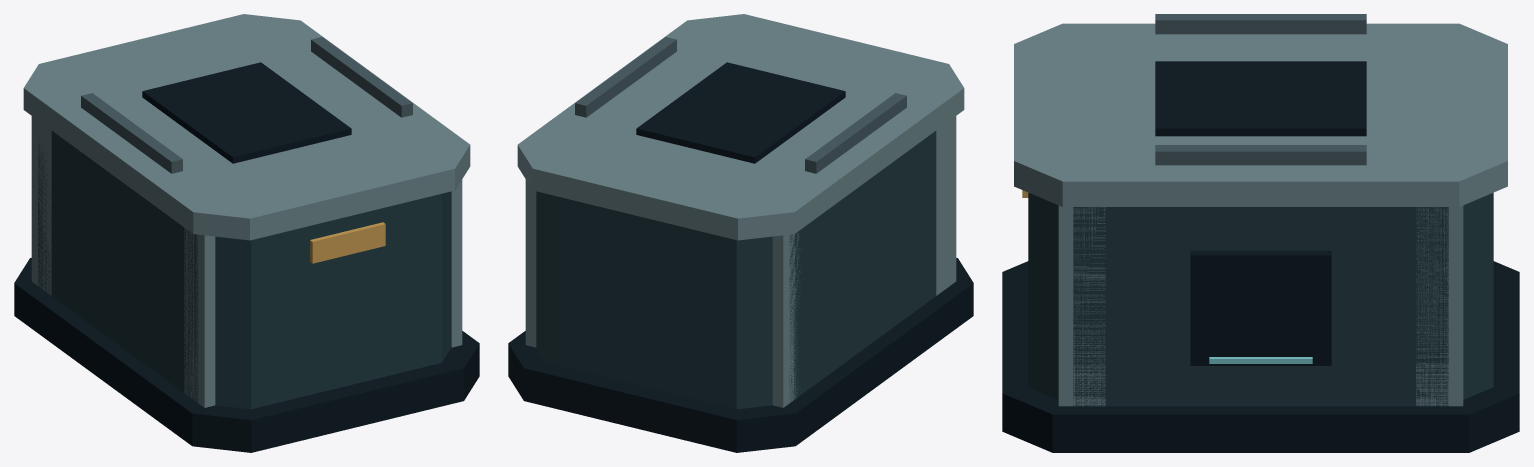
The model's file is cassette_d0_lod2.glb.
The picture shows the model from 3 angles, left to right: view 1: azimuth 30°, elevation 25°; view 2: azimuth 150°, elevation 25°; view 3: azimuth 270°, elevation 25°; orthographic projection. The views are drawn at different scales.
Visible parts, largest first — view 1: DISTANCE_STATIC; view 2: DISTANCE_STATIC; view 3: DISTANCE_STATIC.
Part boxes in pixels (bbox=[...]): DISTANCE_STATIC: bbox=[14, 14, 479, 452]; DISTANCE_STATIC: bbox=[508, 14, 973, 452]; DISTANCE_STATIC: bbox=[1002, 14, 1519, 452].
Bounding box in the file's own units: 1.65 × 1.35 × 2.2.
